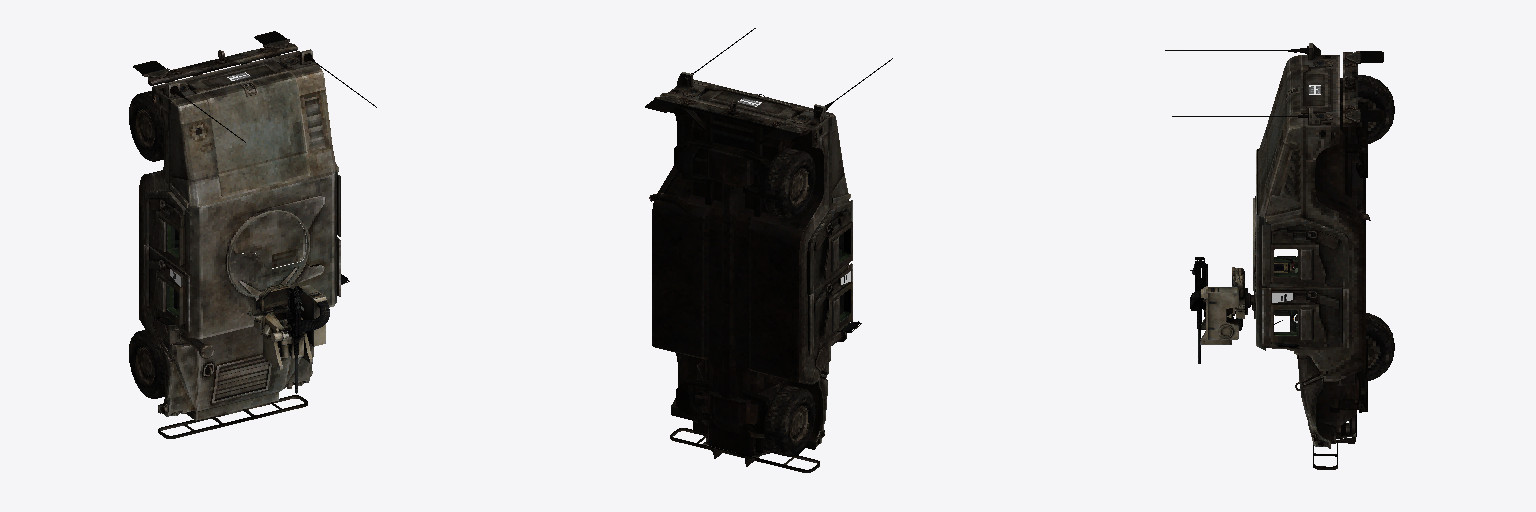
3 renders of one model, left to right at view 1: azimuth 30°, elevation 25°; view 2: azimuth 150°, elevation 25°; view 3: azimuth 270°, elevation 25°, orthographic.
Bounding box in the file's own units: 301 × 560 × 324.
Materials: 4 (4 with a texture image).